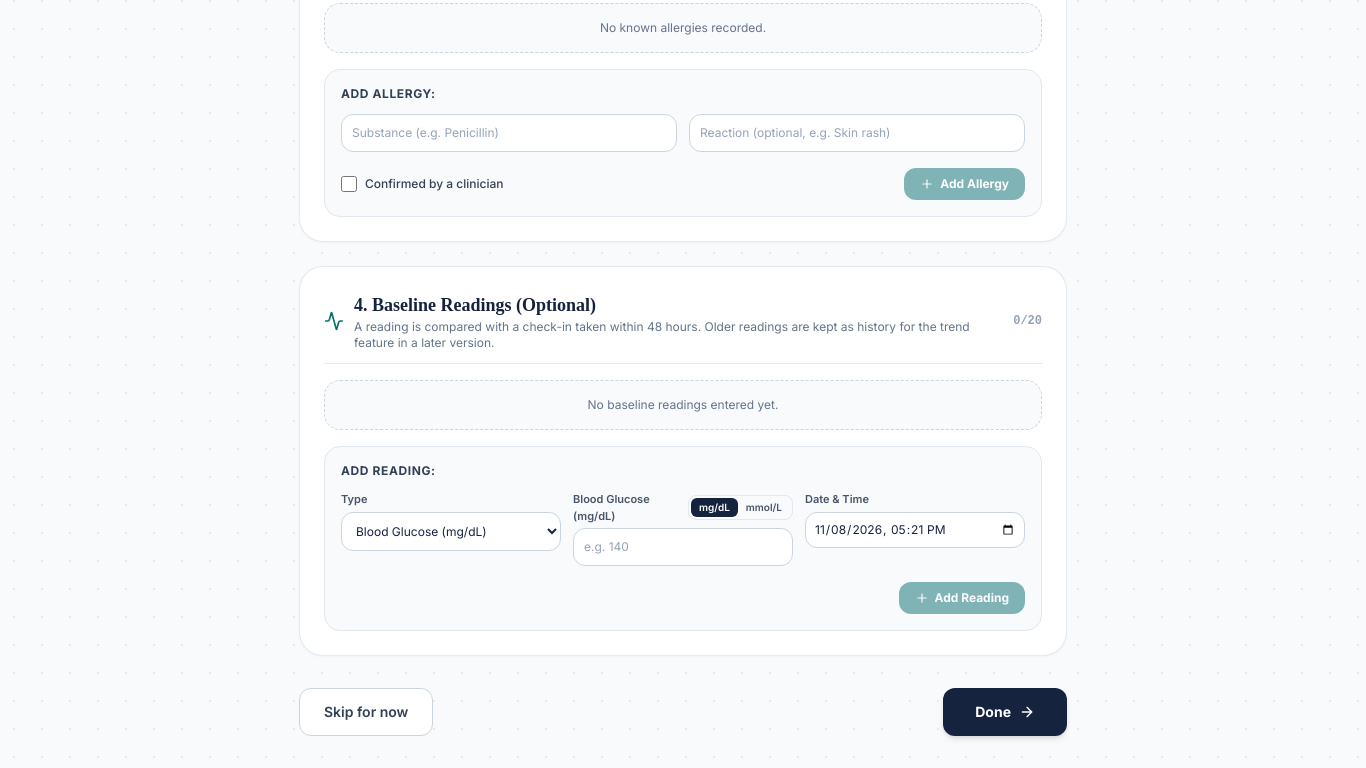
Test: Bug Bash #85: Observation Input Card Glucose Unit Selector › switches to mmol/L upon clicking mmol/L unit selector, updating label and placeholder
The image size is (1366, 768).
(page scrolled)
Expected: the text "Add Reading:" is shown, [341,463,436,478]
Click the button with id "glucose-unit-mmol-btn".
click(764, 508)  # box [738,498,790,517]
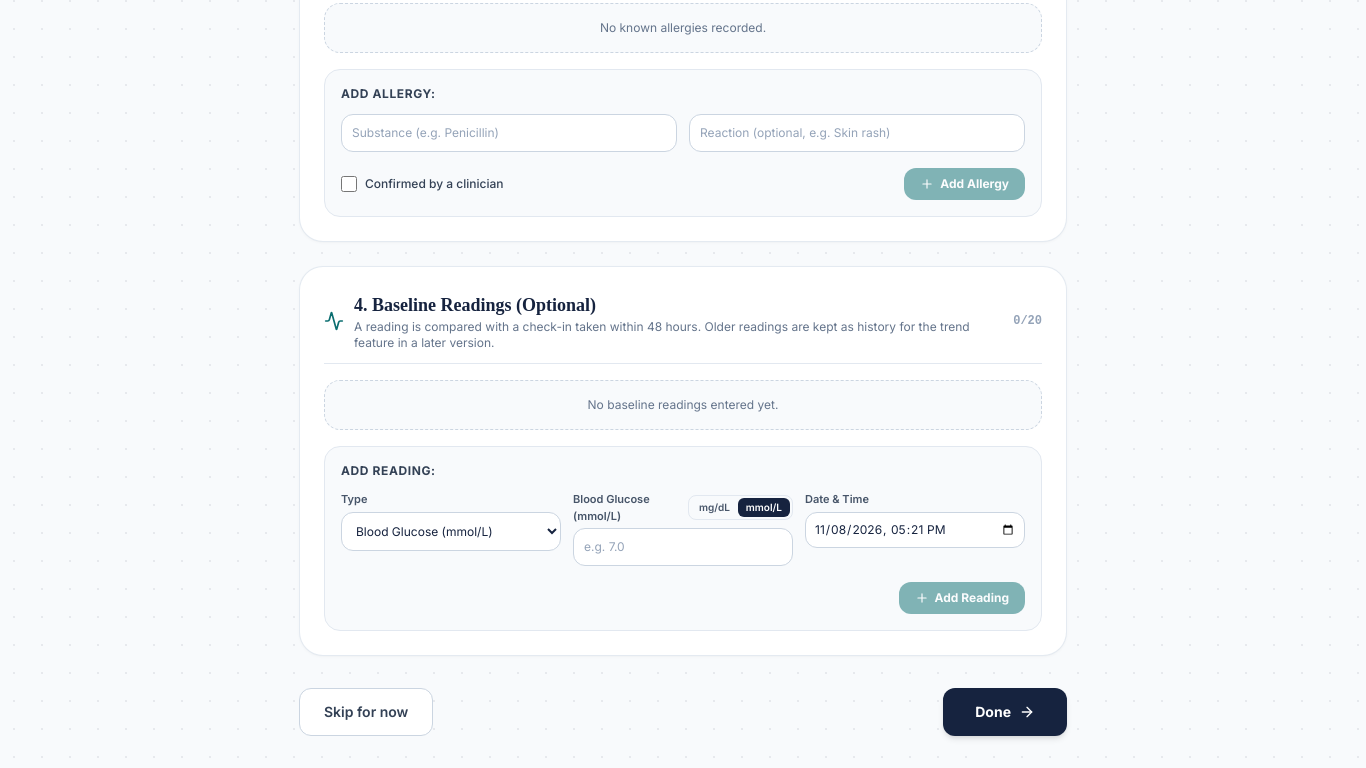
Expected: the number field with placeholder "e.g. 7.0" is shown, [573,528,793,566]
